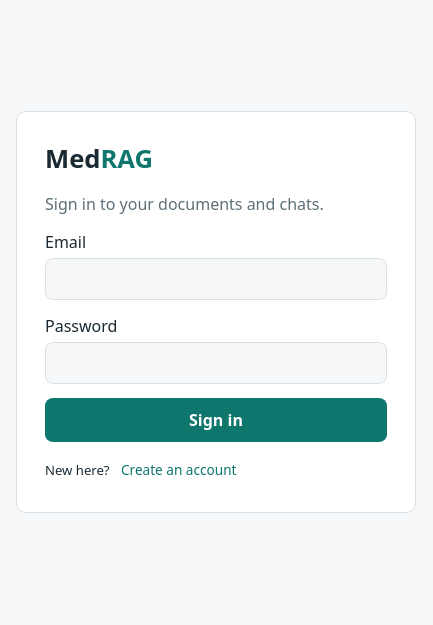
Test: AuthScreen › enforces the minimum password length when registering
The image size is (433, 625).
Step 1. Click the button "Create an account" → (179, 470), box top-left (113, 456), bottom-right (244, 484)
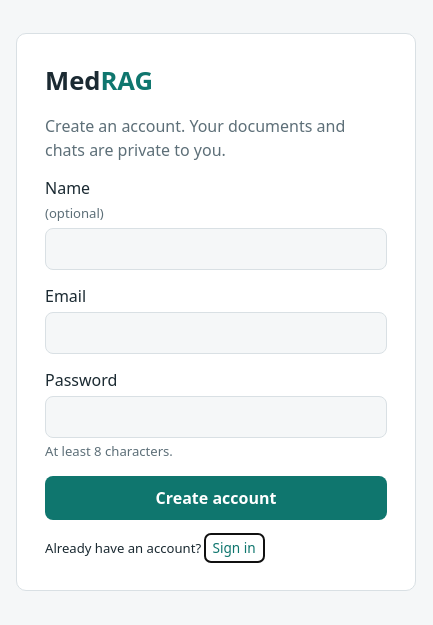
Step 2. Type "alice@example.org" into the field labelled "Email" → (216, 333), box top-left (45, 312), bottom-right (387, 354)
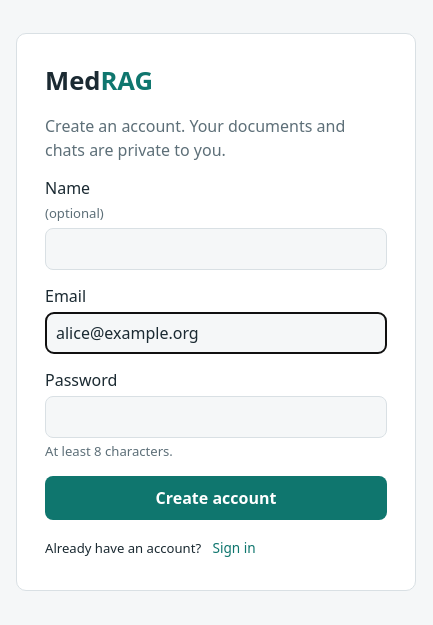
Step 3. Type "short" into the password field labelled "Password" → (216, 417), box top-left (45, 396), bottom-right (387, 438)
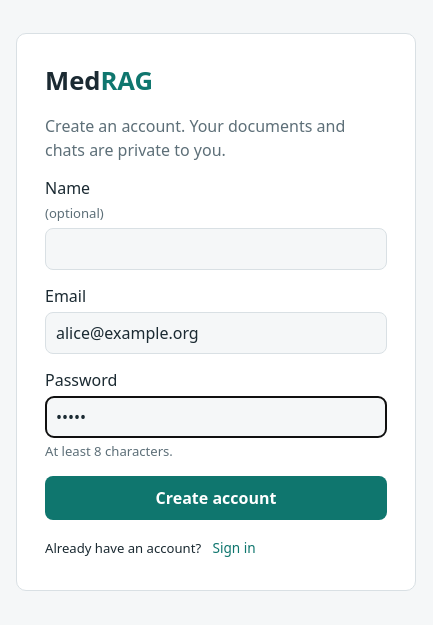
Step 4. Click the button "Create account" → (216, 498), box top-left (45, 476), bottom-right (387, 520)
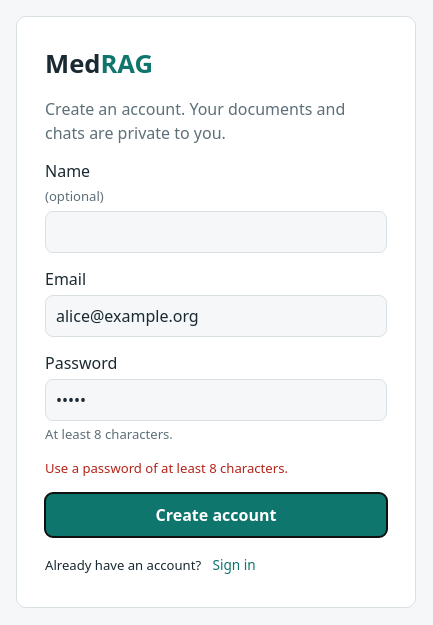
Expected: the message shows "at least 8 characters", top-left (45, 459), bottom-right (288, 477)
